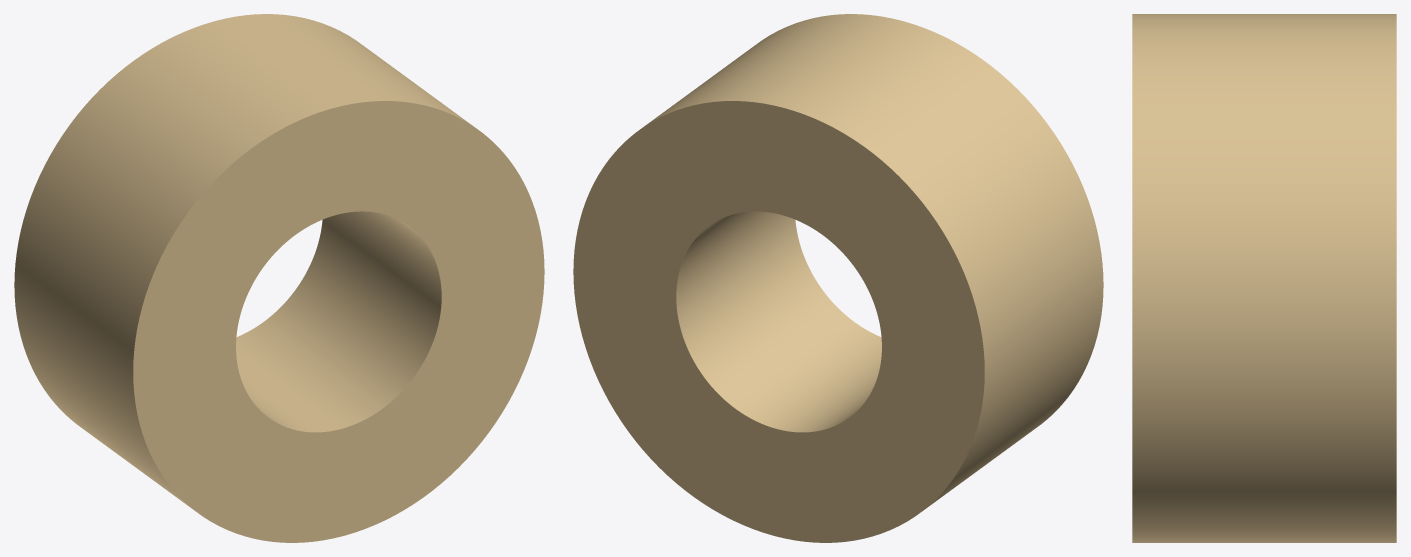
Rendered from piston_bushing.glb.
The picture shows the model from 3 angles, left to right: view 1: azimuth 30°, elevation 25°; view 2: azimuth 150°, elevation 25°; view 3: azimuth 270°, elevation 25°; orthographic projection. The views are drawn at different scales.
Visible parts, largest first — view 1: =>[0:1:1:2]; view 2: =>[0:1:1:2]; view 3: =>[0:1:1:2].
Part boxes in pixels (x1=…): =>[0:1:1:2]: x1=14, y1=14, x2=544, y2=542; =>[0:1:1:2]: x1=573, y1=14, x2=1103, y2=542; =>[0:1:1:2]: x1=1132, y1=14, x2=1396, y2=542.
Bounding box in the file's own units: 0.0508 × 0.0508 × 0.0254.
